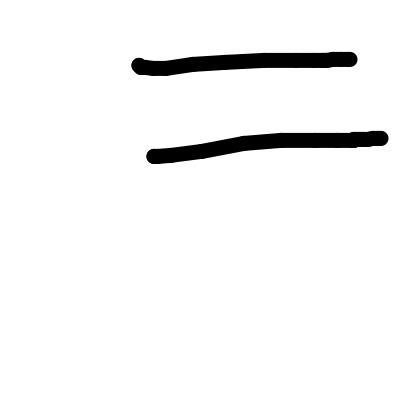eqv: (129, 44, 388, 161)
